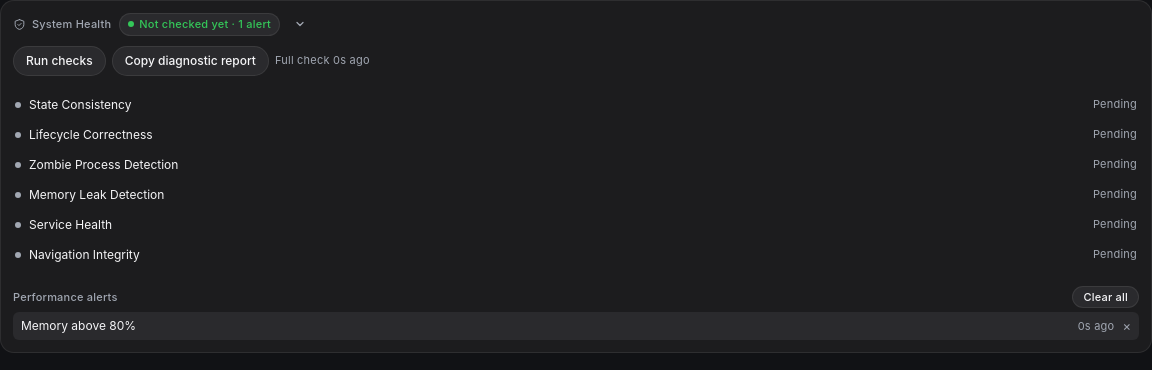
Test: SystemIntegrityPanel › shows performance alerts and dismisses them
The width and height of the screenshot is (1152, 370).
Check: the text "Memory above 80%" is shown, box [21,318,136,333]
Step 1. Click the button named "Dismiss alert: Memory above 80%" → (1127, 326), box [1122,320,1131,332]
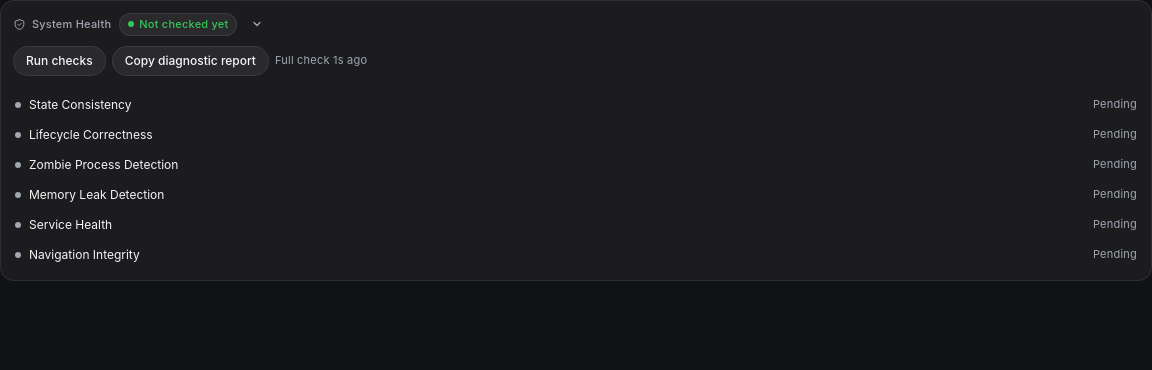
Check: the text "Memory above 80%" is gone
